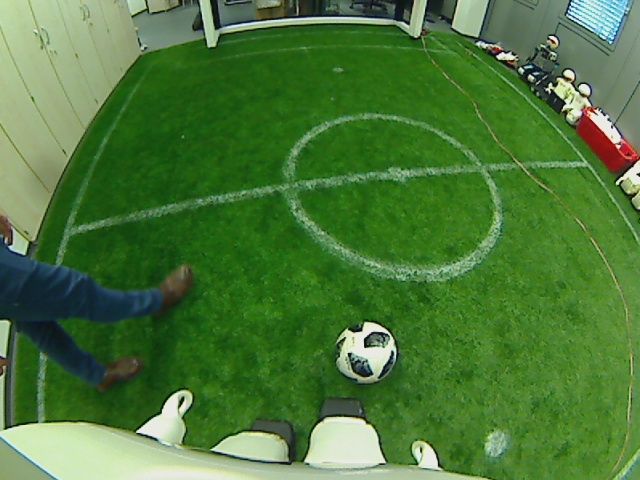ball: (332, 319, 397, 384)
